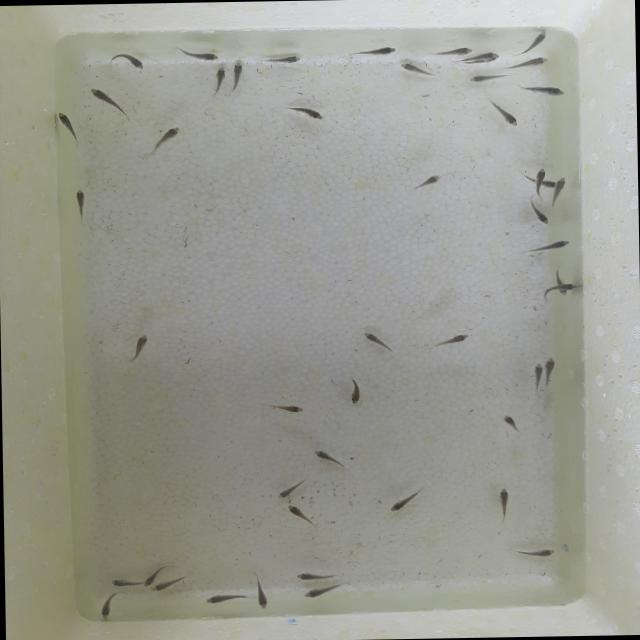fingerling: (146, 123, 184, 155), (360, 329, 398, 355), (286, 566, 342, 582), (95, 592, 123, 624), (516, 81, 568, 98), (288, 102, 332, 122), (70, 185, 93, 222), (408, 170, 444, 193), (202, 589, 248, 607), (124, 332, 150, 363), (510, 544, 560, 560), (499, 409, 526, 438), (524, 239, 572, 255), (496, 486, 516, 524), (429, 332, 473, 349), (384, 491, 416, 514), (259, 399, 305, 415), (519, 29, 549, 53), (86, 85, 118, 107), (464, 71, 514, 84), (253, 575, 271, 611), (494, 105, 522, 128), (548, 176, 568, 208), (528, 356, 544, 393), (434, 44, 476, 58), (312, 446, 344, 464), (272, 480, 300, 500), (300, 586, 340, 600), (286, 501, 314, 521), (118, 52, 149, 70), (543, 356, 558, 390), (150, 579, 186, 593), (56, 109, 76, 134), (180, 50, 221, 61), (230, 58, 246, 86), (140, 566, 162, 586), (404, 61, 433, 76), (529, 203, 550, 223), (104, 576, 138, 588), (510, 56, 550, 66), (266, 53, 302, 64), (346, 384, 364, 406), (548, 282, 578, 294), (360, 46, 396, 56), (470, 52, 502, 63), (212, 64, 226, 88), (532, 169, 546, 190)
